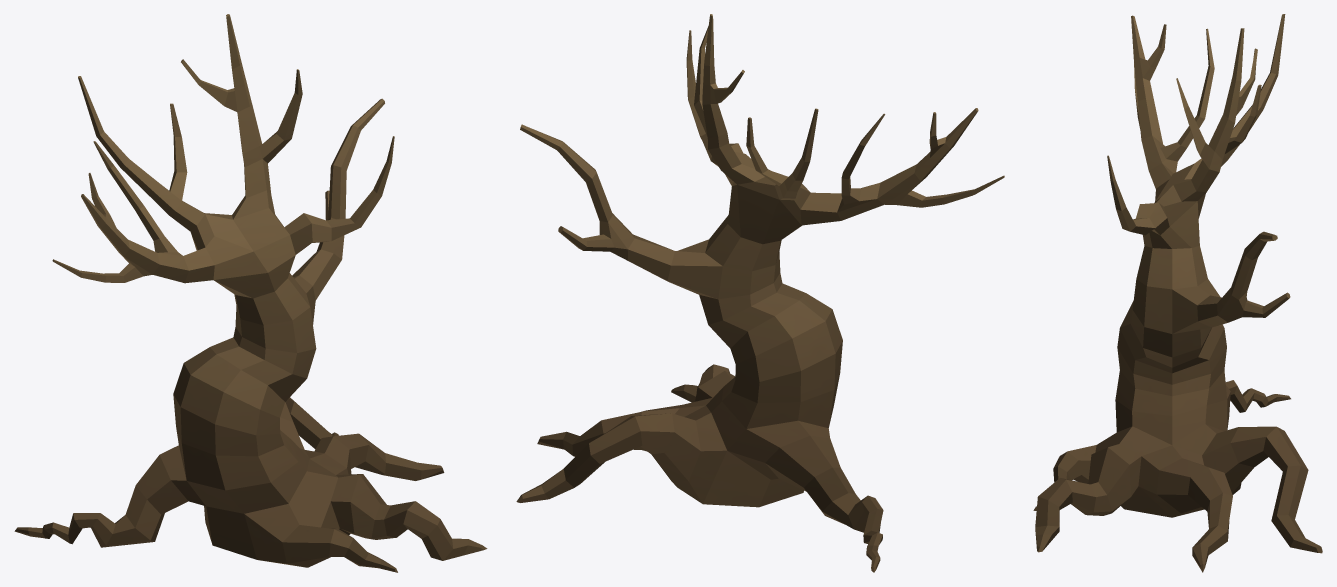
Rendered from wasteland_tree3.fbx.
3 renders of one model, left to right at view 1: azimuth 30°, elevation 25°; view 2: azimuth 150°, elevation 25°; view 3: azimuth 270°, elevation 25°, orthographic. The views are drawn at different scales.
Visible parts, largest first — view 1: wasteland_tree3; view 2: wasteland_tree3; view 3: wasteland_tree3.
Boxes of the visible parts, box(x1,y1,x2,y2) form: wasteland_tree3: box(14, 14, 487, 572); wasteland_tree3: box(516, 14, 1004, 572); wasteland_tree3: box(1033, 14, 1322, 572).
Size of the model in its own units: 6.03 by 6.67 by 3.8.
